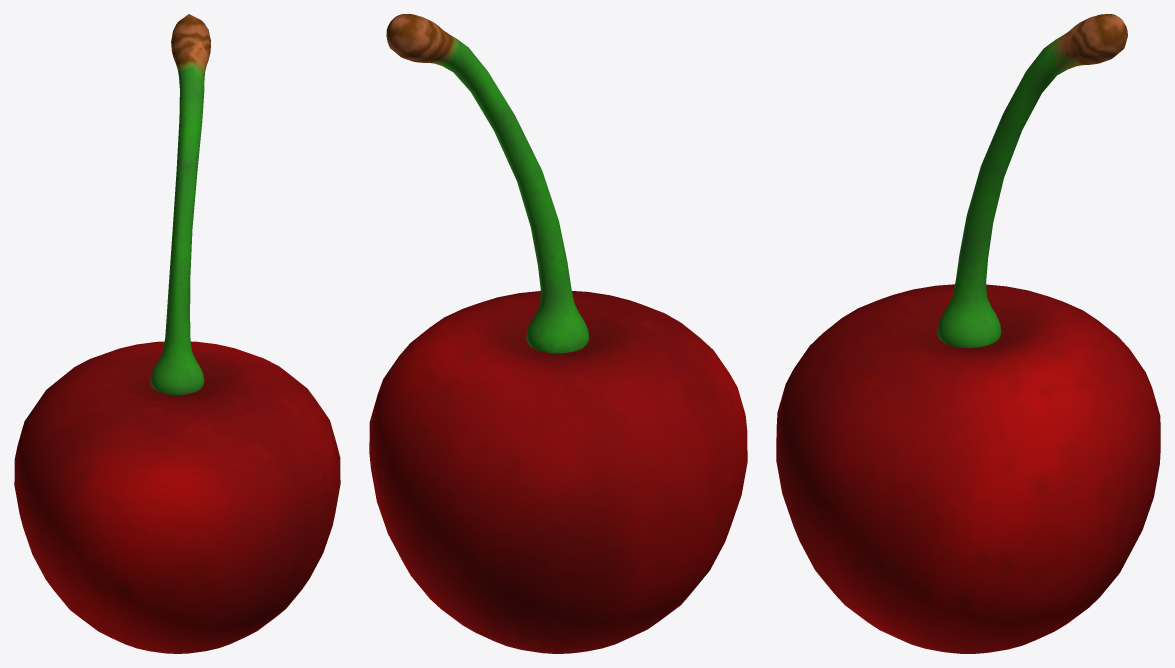
The model's file is cherry.glb.
3 renders of one model, left to right at view 1: azimuth 30°, elevation 25°; view 2: azimuth 150°, elevation 25°; view 3: azimuth 270°, elevation 25°, orthographic. The views are drawn at different scales.
Parts seen in each view (by area): view 1: Object_3; view 2: Object_3; view 3: Object_3.
Boxes of the visible parts, left/top/right/bottom form: Object_3: left=14, top=14, right=340, bottom=653; Object_3: left=369, top=14, right=747, bottom=653; Object_3: left=776, top=14, right=1160, bottom=653.
Bounding box in the file's own units: 0.0105 × 0.0197 × 0.0105.
Materials: 1 (1 with a texture image).
